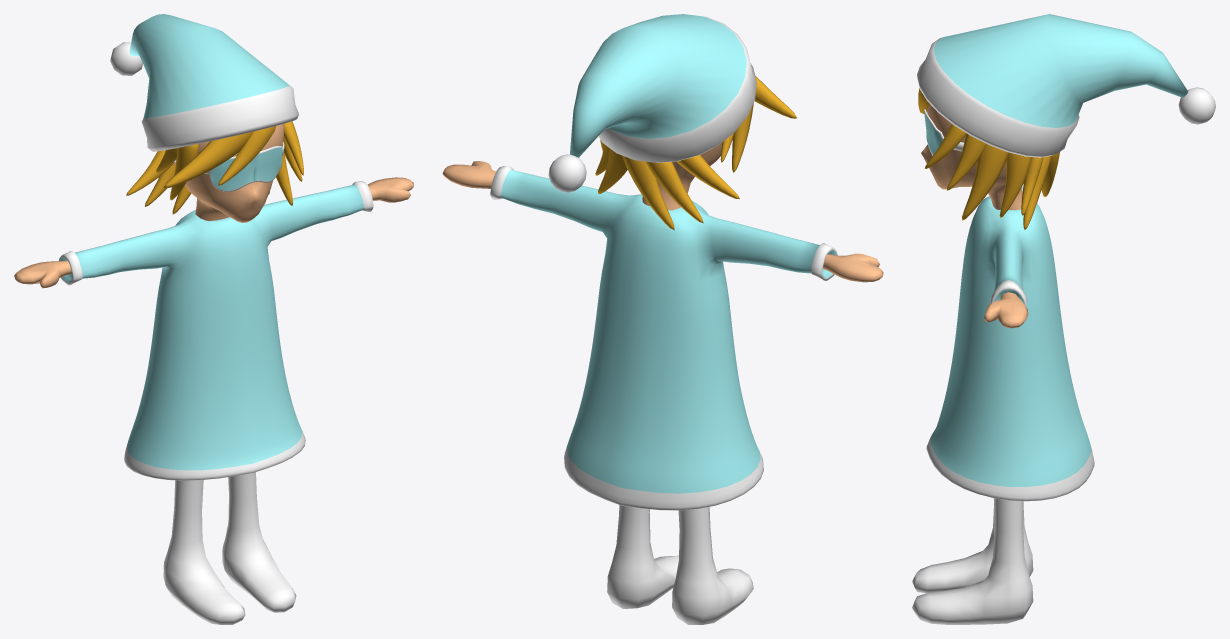
The model's file is OneiroNancyModel.fbx.
3 renders of one model, left to right at view 1: azimuth 30°, elevation 25°; view 2: azimuth 150°, elevation 25°; view 3: azimuth 270°, elevation 25°, orthographic. The views are drawn at different scales.
Visible parts, largest first — view 1: OneiroNancy; view 2: OneiroNancy; view 3: OneiroNancy.
Boxes of the visible parts, x1,y1,x2,y2 form: OneiroNancy: (14,14,413,624); OneiroNancy: (442,14,883,624); OneiroNancy: (912,14,1215,624).
Bounding box in the file's own units: 617 × 807 × 381.
